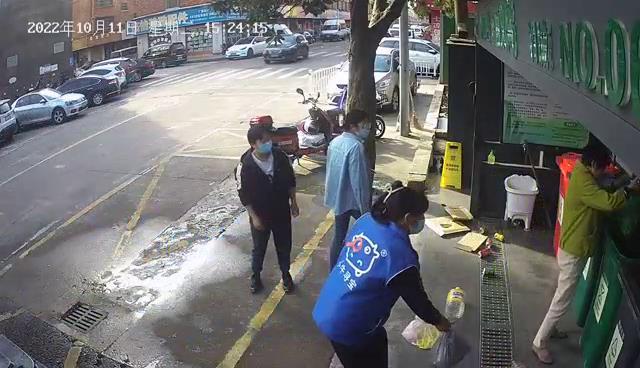garbage-bag: (400, 313, 441, 349)
lvzhipin: (481, 266, 496, 277), (477, 248, 491, 258), (494, 232, 504, 242), (486, 238, 493, 247)
person: (532, 144, 640, 365), (233, 124, 300, 294)
worker: (311, 180, 451, 368), (323, 109, 373, 275)
zhizhipin: (424, 216, 471, 238), (455, 231, 489, 253), (444, 204, 474, 221)
